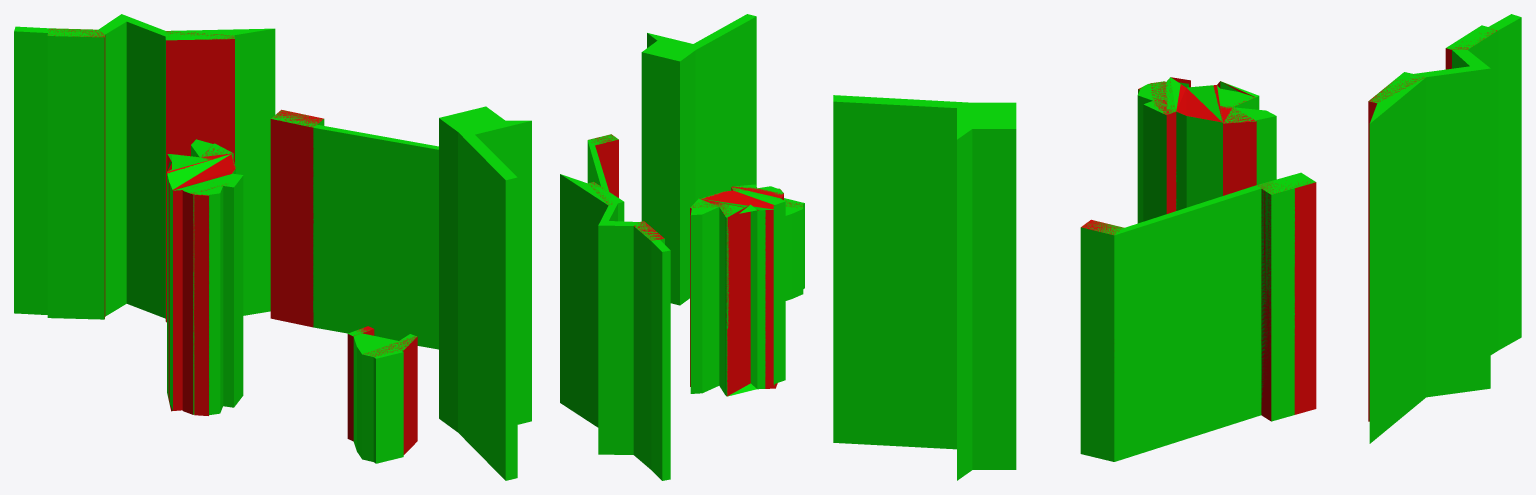
File: InvisibleWall_024.fbx
3 views of the same model, side by side, from view 1: azimuth 30°, elevation 25°; view 2: azimuth 150°, elevation 25°; view 3: azimuth 270°, elevation 25° (orthographic). The views are drawn at different scales.
Parts seen in each view (by area): view 1: Designer148, Designer144, InvisibleWall_024_Phys, Designer145, Designer152, Designer151; view 2: Designer148, Designer144, Designer152, InvisibleWall_024_Phys, Designer151, Designer145; view 3: Designer144, Designer148, Designer145, InvisibleWall_024_Phys, Designer152.
Boxes of the visible parts, left/top/right/bottom form: Designer148: left=14, top=14, right=275, bottom=321; Designer144: left=439, top=106, right=531, bottom=480; InvisibleWall_024_Phys: left=48, top=28, right=417, bottom=454; Designer145: left=271, top=110, right=438, bottom=349; Designer152: left=167, top=139, right=243, bottom=415; Designer151: left=348, top=327, right=416, bottom=463; Designer148: left=560, top=174, right=670, bottom=480; Designer144: left=641, top=14, right=756, bottom=305; Designer152: left=690, top=184, right=785, bottom=396; InvisibleWall_024_Phys: left=591, top=134, right=802, bottom=396; Designer151: left=784, top=198, right=804, bottom=300; Designer145: left=587, top=134, right=618, bottom=191; Designer144: left=833, top=95, right=1016, bottom=480; Designer148: left=1369, top=14, right=1521, bottom=443; Designer145: left=1080, top=172, right=1315, bottom=461; InvisibleWall_024_Phys: left=1081, top=29, right=1497, bottom=421; Designer152: left=1137, top=77, right=1276, bottom=223.
Bounding box in the file's own units: 1762 × 1850 × 3338.
